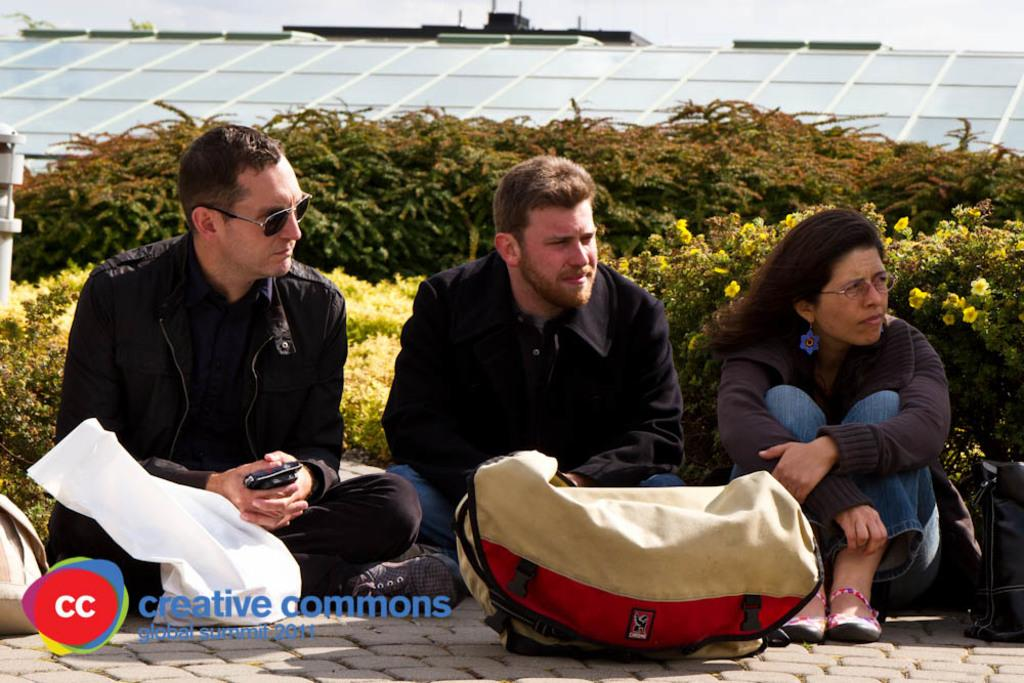Luggage-and-bags: (481, 430, 861, 672), (0, 490, 50, 637)
